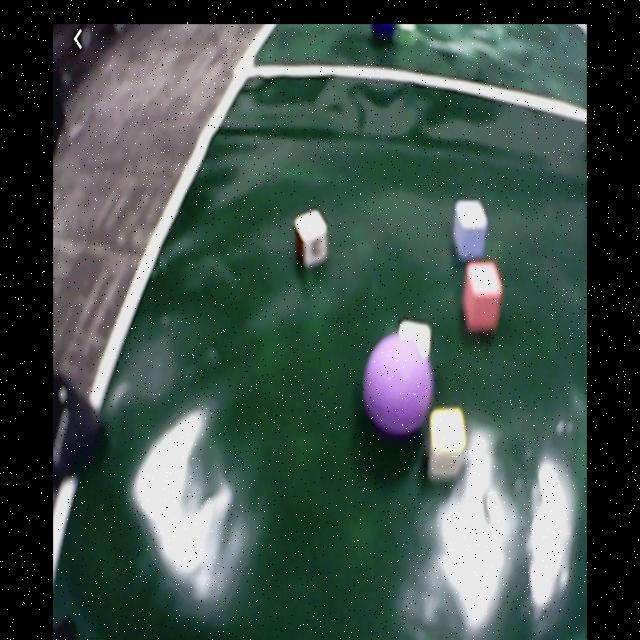ball: (366, 338, 432, 431), (374, 22, 397, 46)
